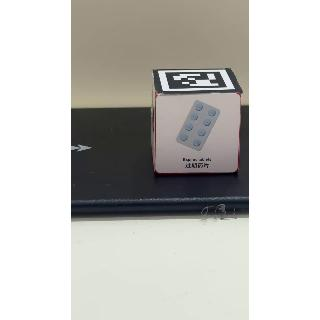Tablet: (162, 93, 244, 178)
